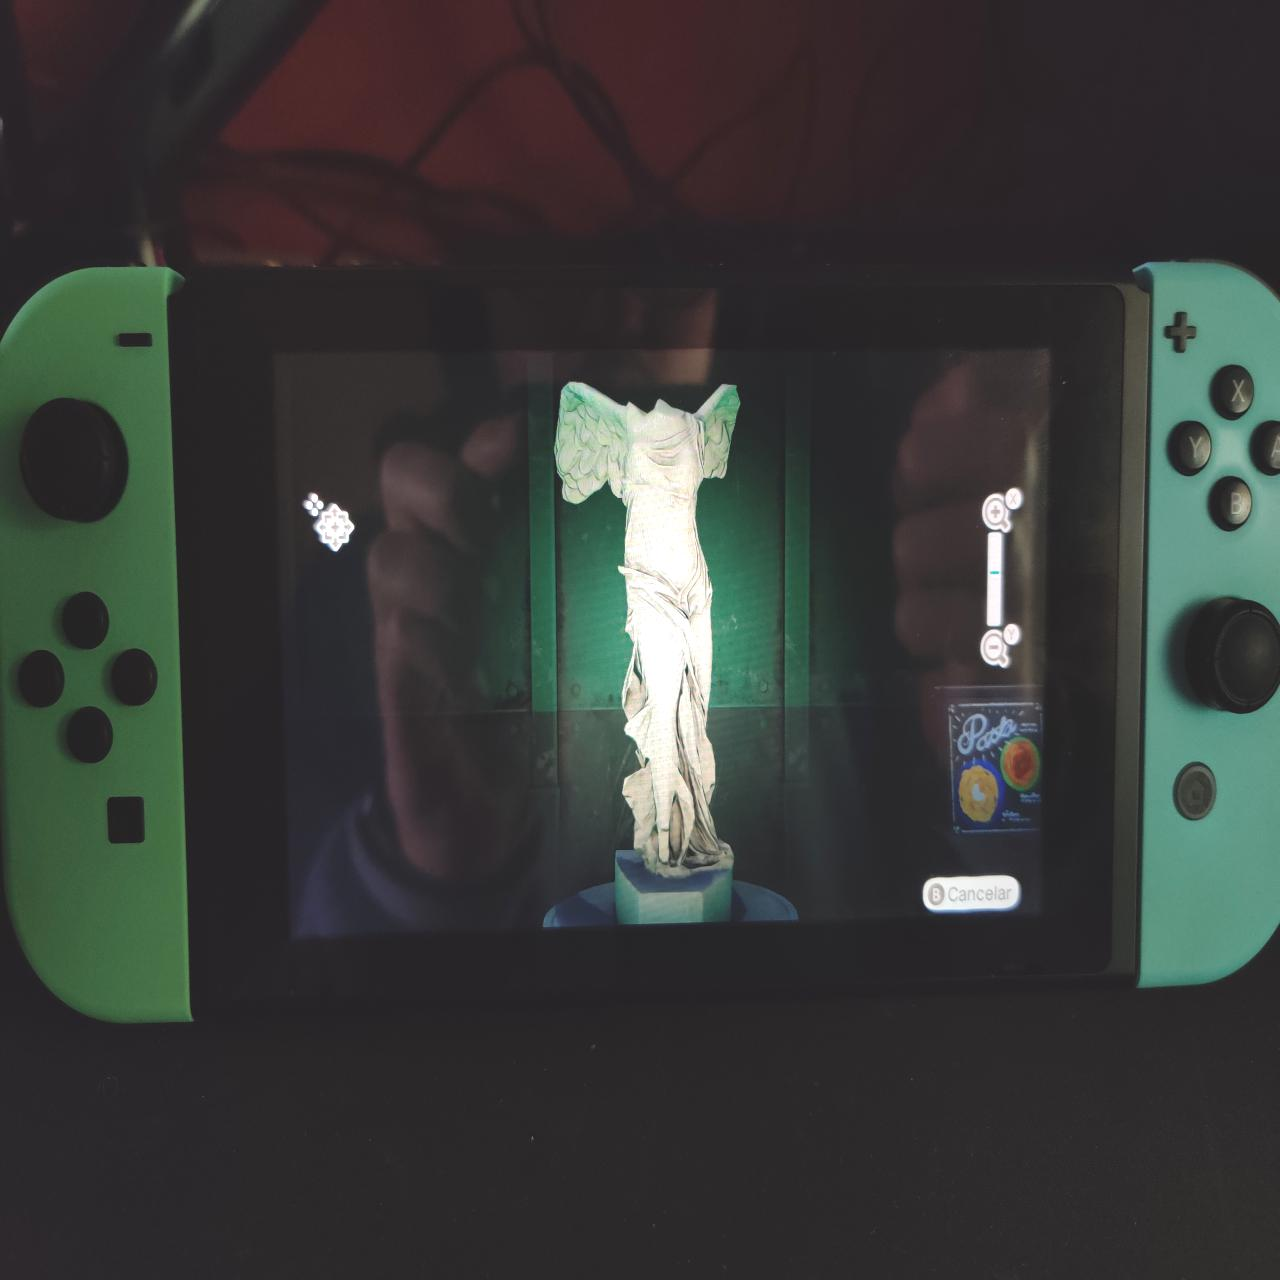Samothrace: (543, 370, 765, 885)
